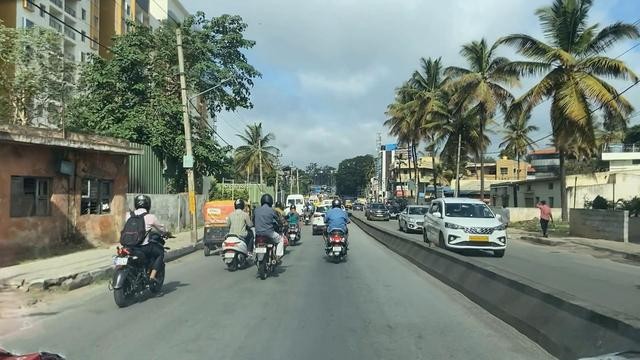LMV: (112, 194, 162, 296), (253, 198, 281, 274), (321, 198, 348, 263), (222, 206, 246, 274), (285, 204, 299, 242)
